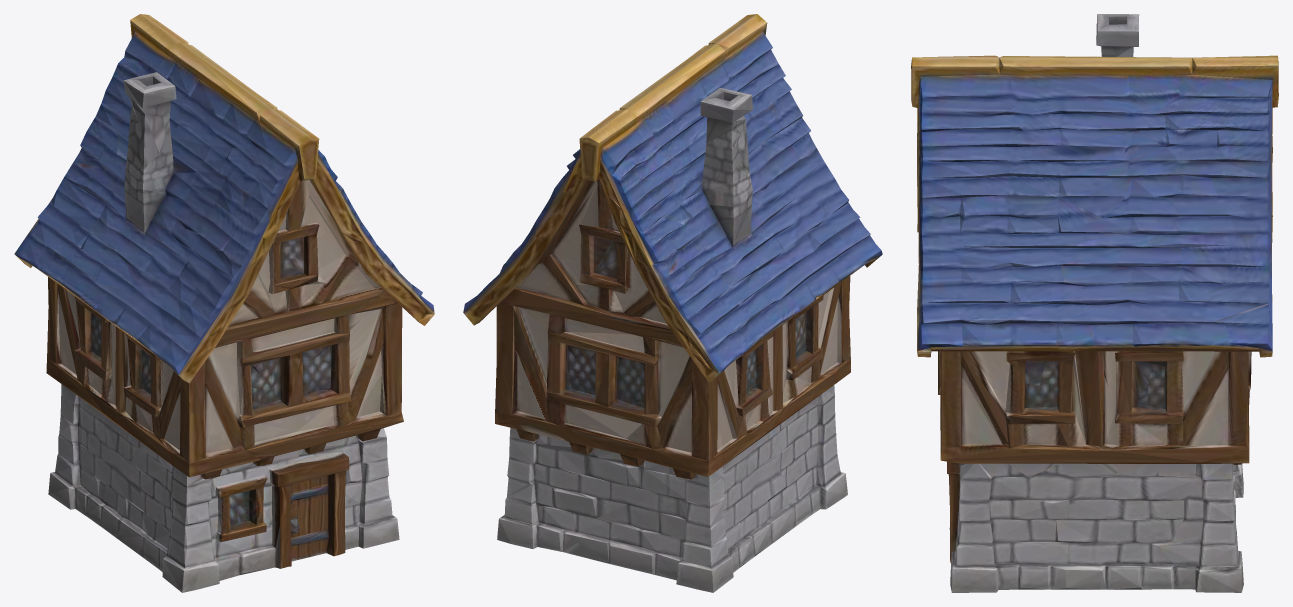
File: oc_house_narrow.glb
The picture shows the model from 3 angles, left to right: view 1: azimuth 30°, elevation 25°; view 2: azimuth 150°, elevation 25°; view 3: azimuth 270°, elevation 25°; orthographic projection. The views are drawn at different scales.
Parts seen in each view (by area): view 1: W_city_house_narrow; view 2: W_city_house_narrow; view 3: W_city_house_narrow.
Boxes of the visible parts, bbox=[...] form: W_city_house_narrow: bbox=[14, 14, 434, 592]; W_city_house_narrow: bbox=[463, 14, 882, 592]; W_city_house_narrow: bbox=[911, 14, 1278, 592].
Bounding box in the file's own units: 6.73 × 11 × 7.62.
Materials: 1 (1 with a texture image).
